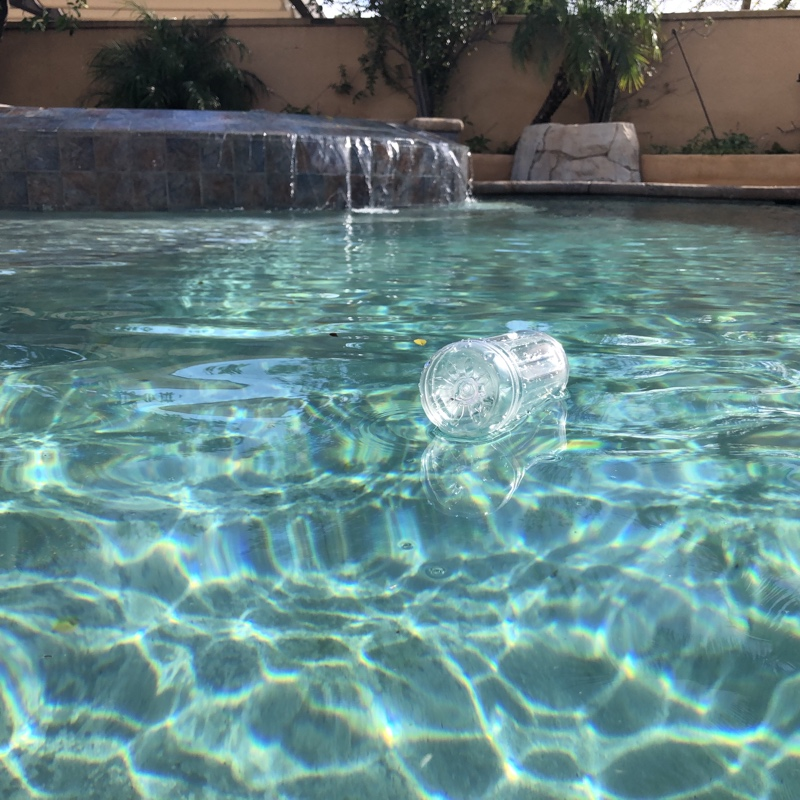Plastic Bottle: (414, 323, 571, 445)
